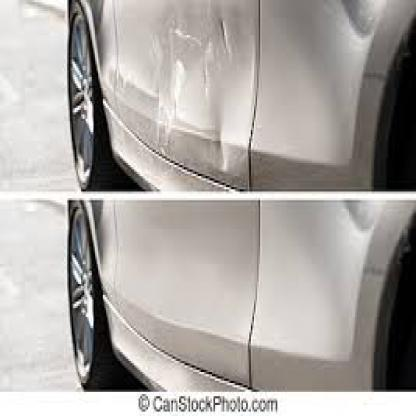dent: (113, 6, 236, 160), (206, 132, 210, 134)
